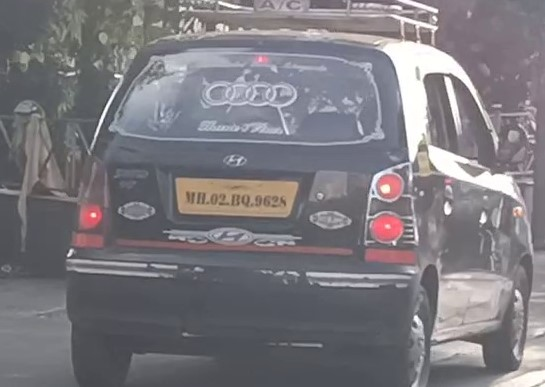MH02BQ9628: (174, 177, 299, 217)
